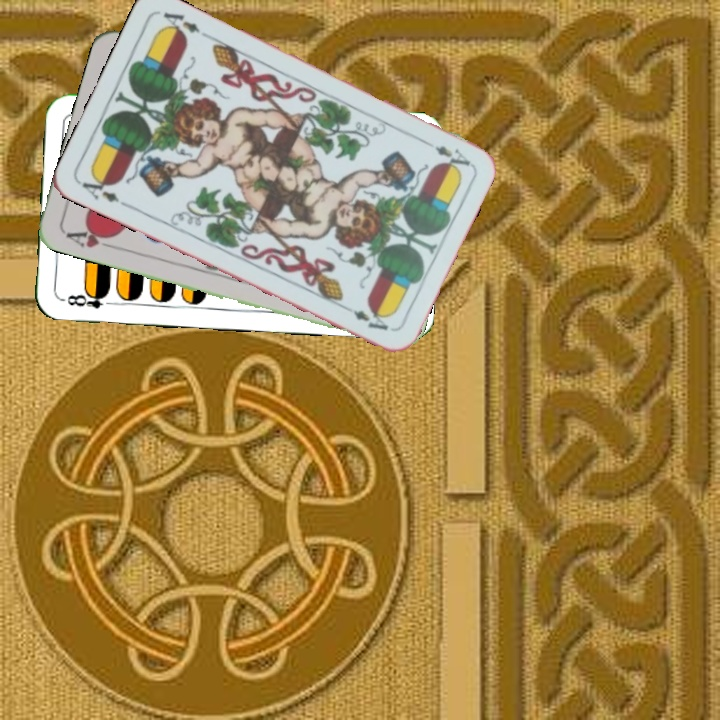E8: (59, 287, 118, 311)
EA: (78, 171, 132, 210), (431, 141, 473, 171)
HA: (61, 223, 120, 253)
